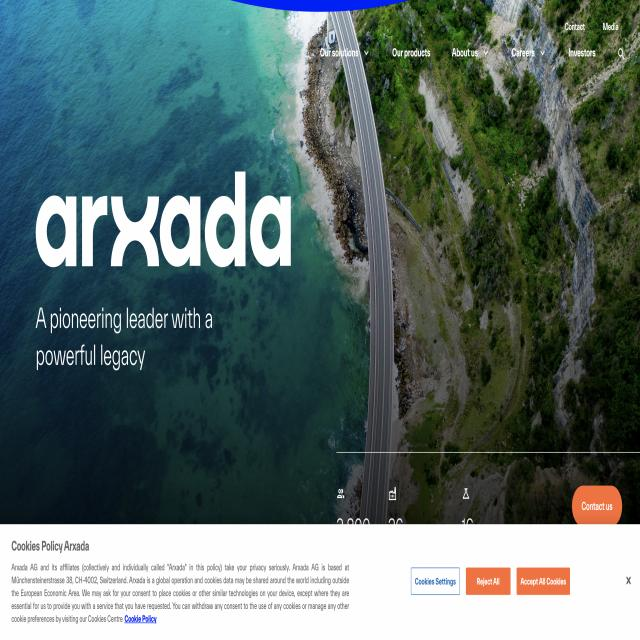Logo: (29, 155, 299, 277)
